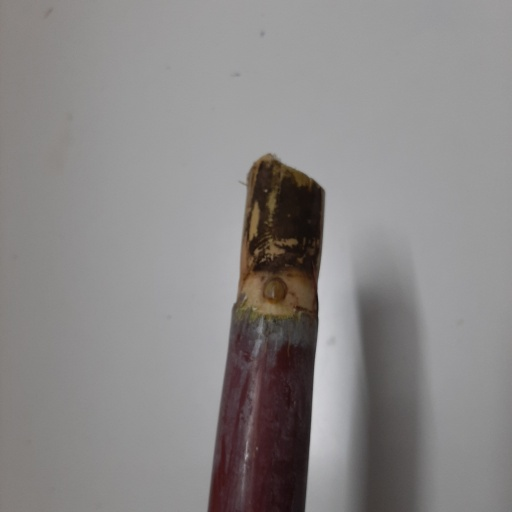Bud: (260, 275, 286, 304)
